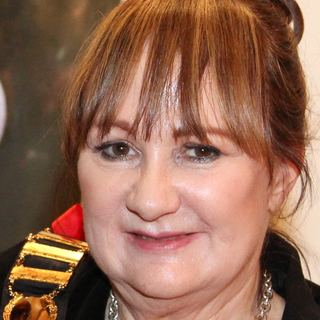eye: (90, 136, 143, 163), (171, 141, 225, 164)
